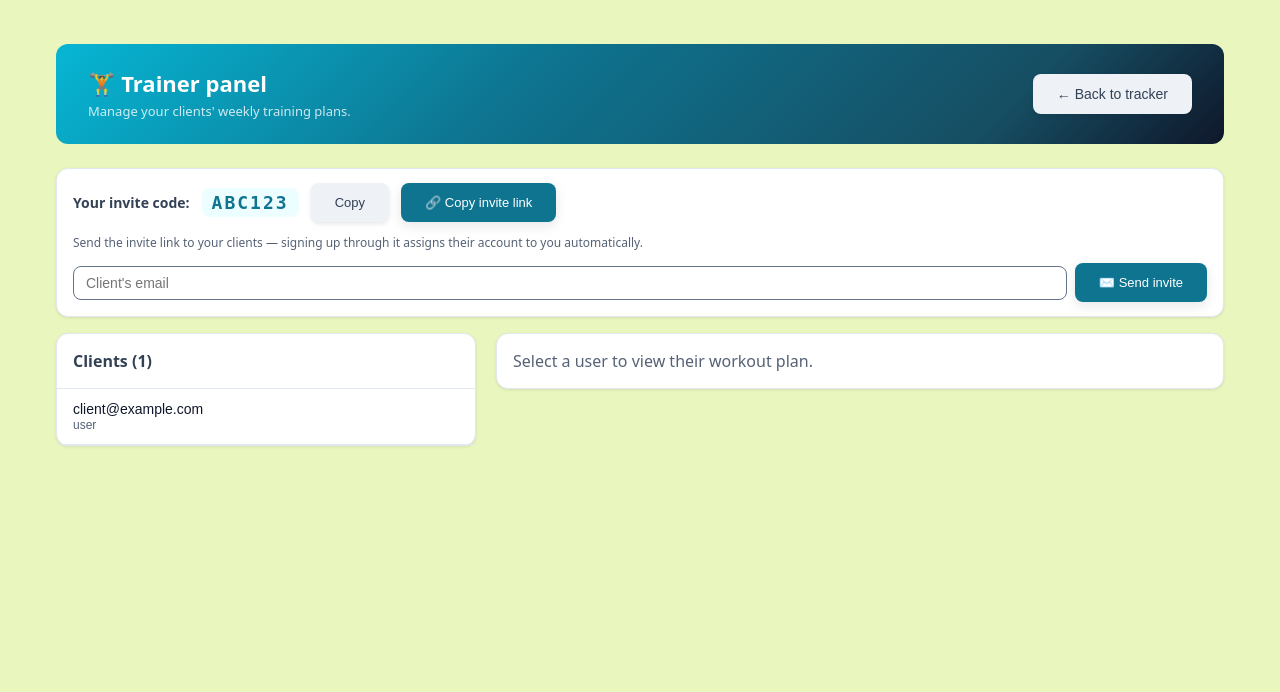
Scenario: AdminDashboard import plan › offers Import plan on the current week and disables it on a past week
Click the text "client@example.com" at point(138, 409), box [73,401,203,417]
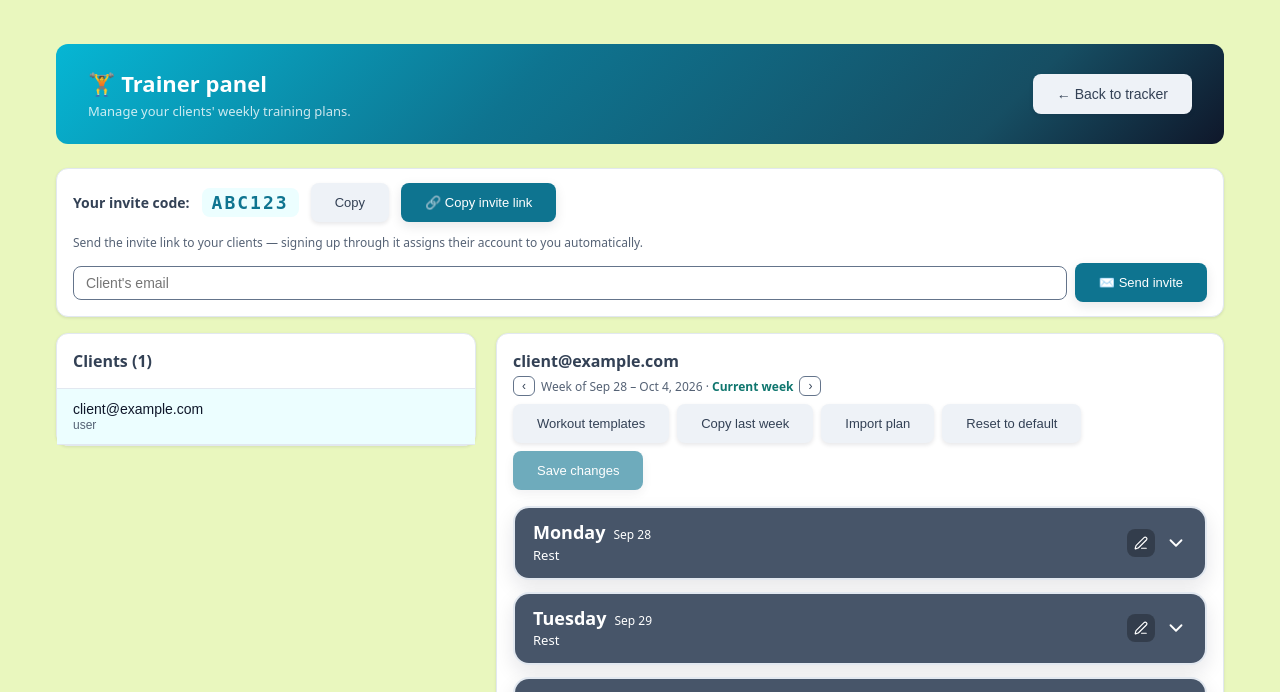
expect the button "Import plan" is enabled: met, box [821,404,934,443]
Click the button named "Previous week" at point(524, 386), box [513,376,535,396]
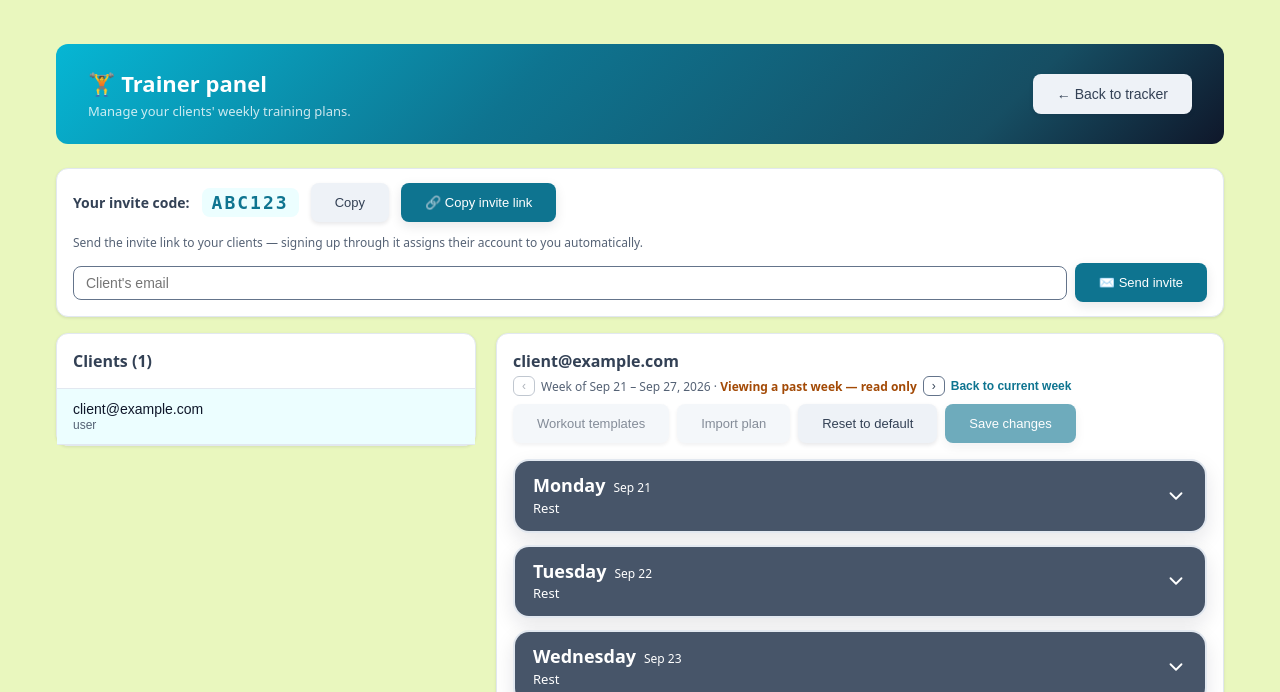
expect the button "Import plan" is disabled: met, box [677,404,790,443]
